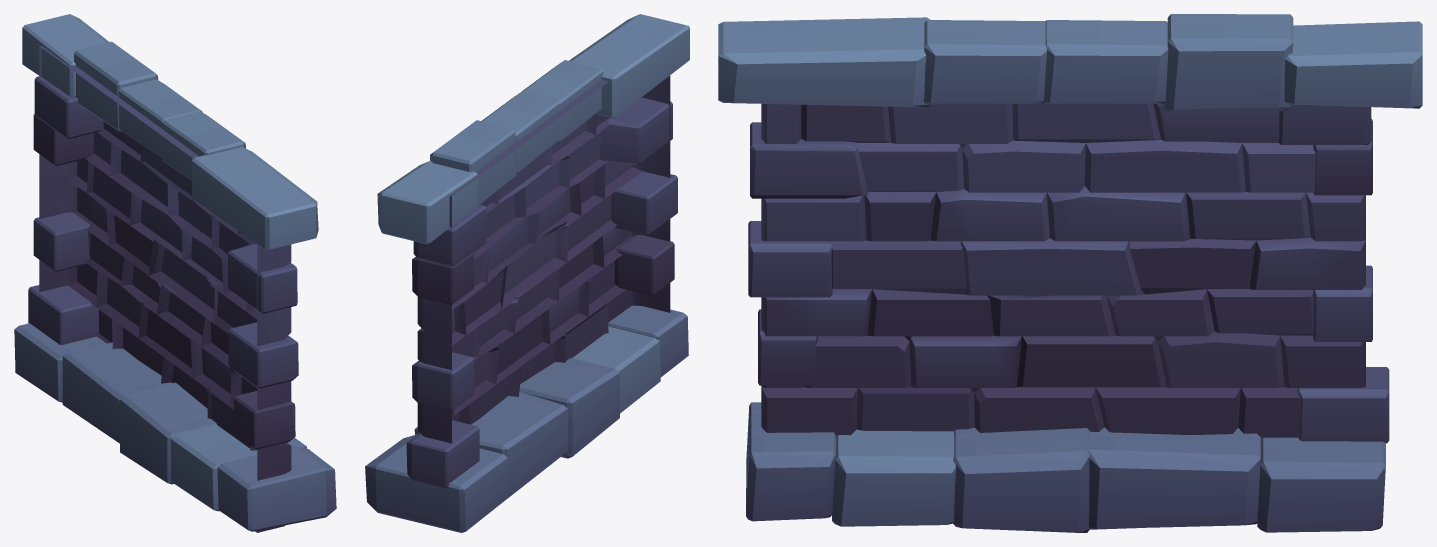
Rendered from wall1w.fbx.
3 renders of one model, left to right at view 1: azimuth 30°, elevation 25°; view 2: azimuth 150°, elevation 25°; view 3: azimuth 270°, elevation 25°, orthographic. The views are drawn at different scales.
Visible parts, largest first — view 1: pCube287; view 2: pCube287; view 3: pCube287.
Part boxes in pixels (bbox=[...]): pCube287: bbox=[14, 14, 336, 532]; pCube287: bbox=[365, 14, 689, 532]; pCube287: bbox=[718, 14, 1422, 532].
Bounding box in the file's own units: 1.51 × 4.8 × 6.4.
